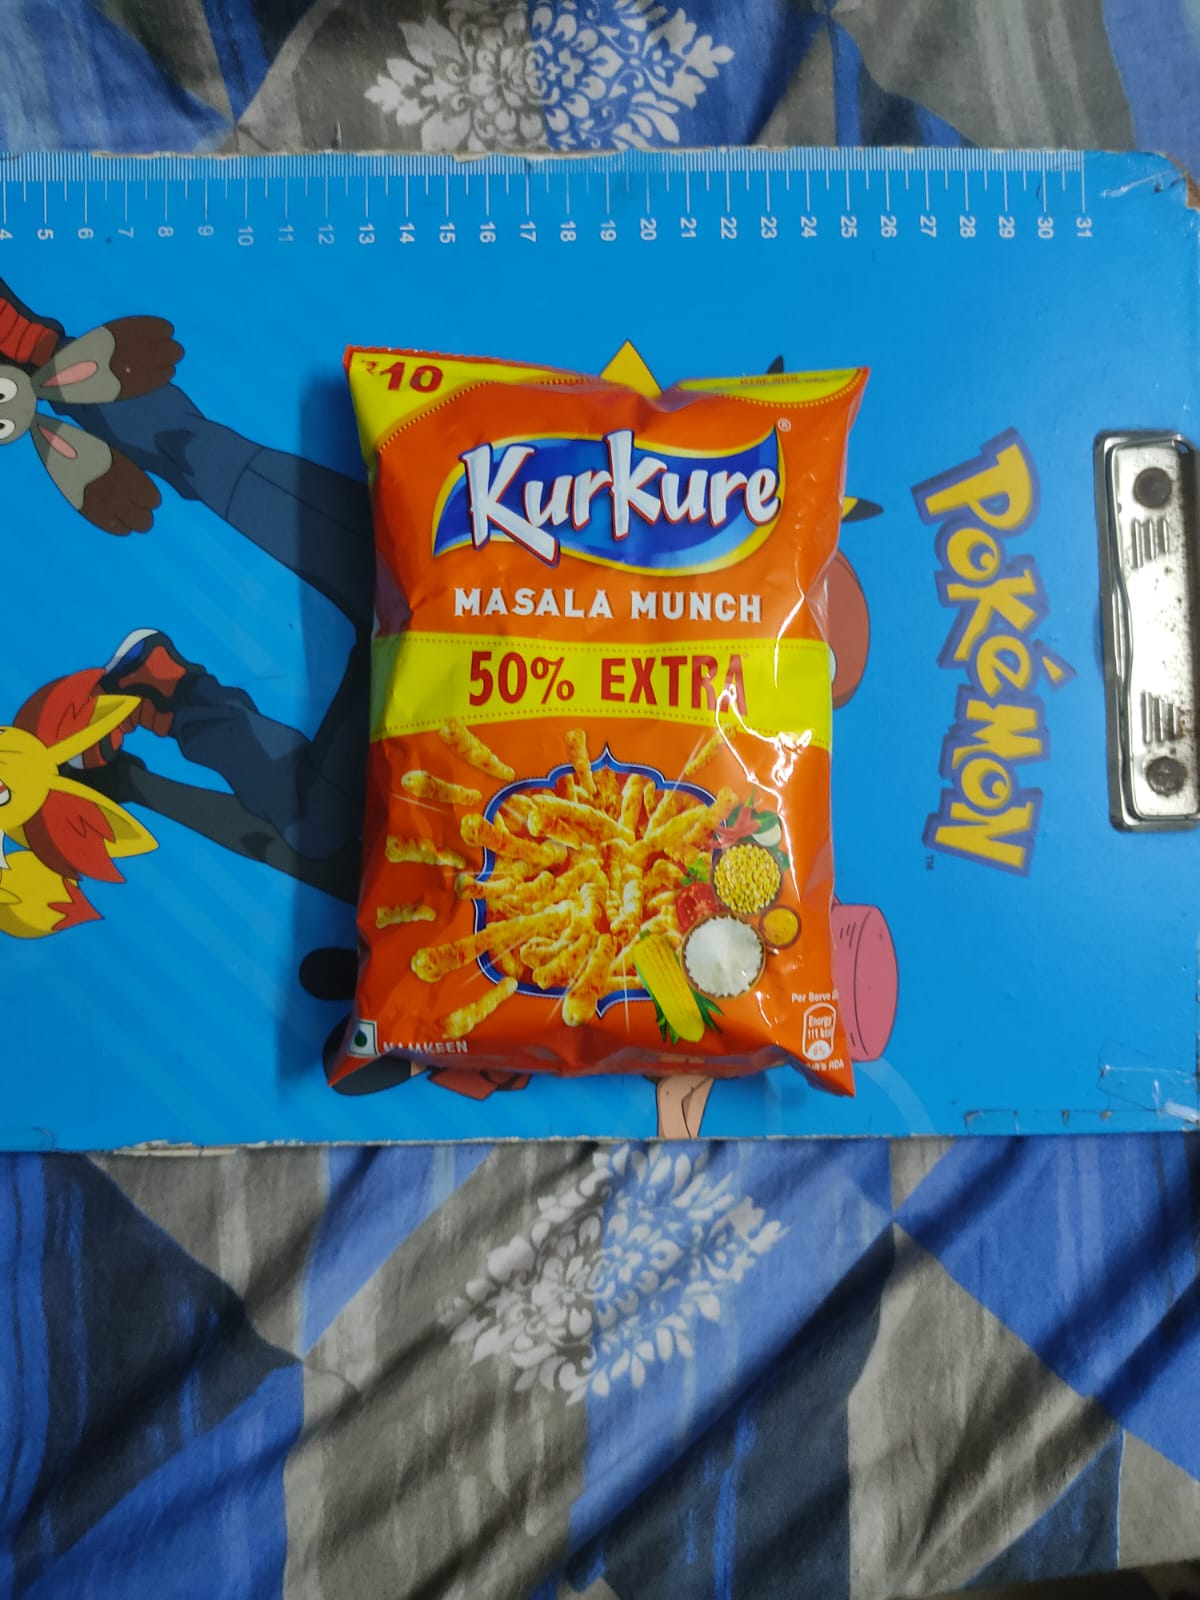010_Kurkure: (349, 355, 863, 1080)
